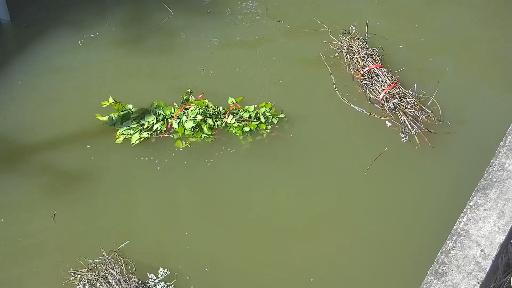twig: (59, 66, 301, 151), (320, 19, 432, 159), (49, 232, 214, 288)
